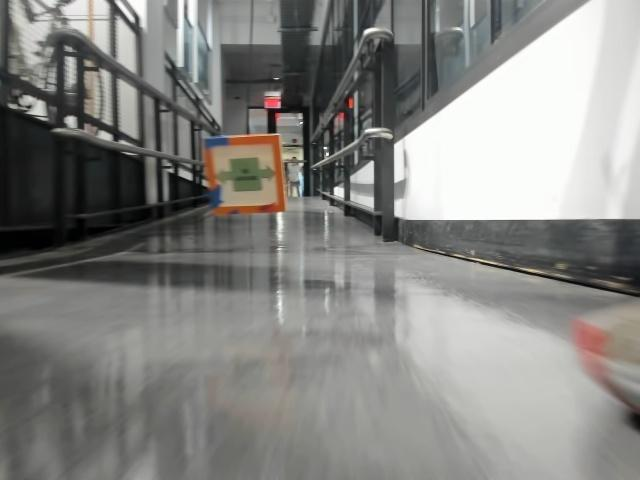Go Around: (215, 160, 272, 191)
